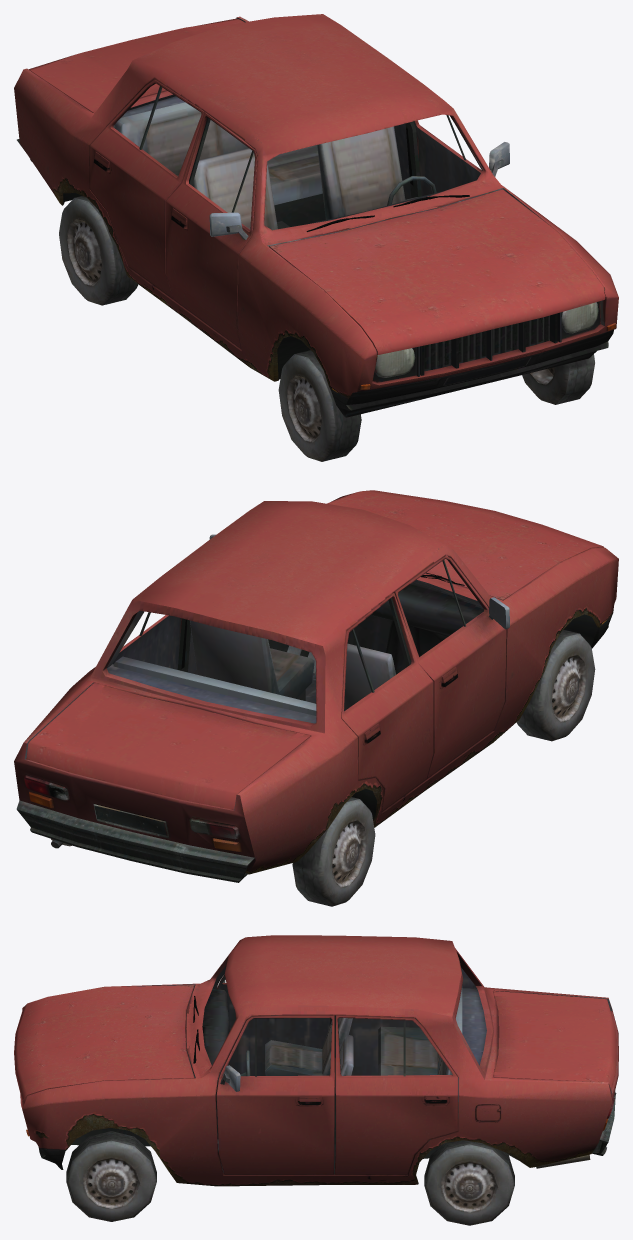
Rendered from Vostok Relia.fbx.
The picture shows the model from 3 angles, top to bottom: view 1: azimuth 30°, elevation 25°; view 2: azimuth 150°, elevation 25°; view 3: azimuth 270°, elevation 25°; orthographic projection. The views are drawn at different scales.
Visible parts, largest first — view 1: Vostok_Relia, Hood, DoorFR, DoorRR, WheelFR, WheelRR, Trunk, DoorFL, WheelFL, DoorRL; view 2: Vostok_Relia, Trunk, Hood, DoorFR, DoorRR, WheelRR, WheelFR, DoorRL; view 3: Vostok_Relia, Hood, DoorFL, DoorRL, Trunk, WheelFL, WheelRL, DoorFR, DoorRR.
Part boxes in pixels (x1,y1,x2,y2): Vostok_Relia: (14, 14, 618, 417); Hood: (269, 189, 605, 354); DoorFR: (165, 112, 257, 348); DoorRR: (89, 79, 205, 299); WheelFR: (278, 350, 361, 461); WheelRR: (59, 196, 138, 305); Trunk: (28, 18, 243, 113); DoorFL: (413, 115, 509, 196); WheelFL: (522, 354, 594, 404); DoorRL: (394, 123, 432, 199); Vostok_Relia: (14, 492, 618, 882); Trunk: (26, 682, 310, 809); Hood: (328, 490, 603, 600); DoorFR: (394, 556, 509, 778); DoorRR: (341, 593, 433, 811); WheelRR: (292, 797, 375, 906); WheelFR: (516, 629, 595, 741); DoorRL: (90, 612, 180, 670); Vostok_Relia: (20, 935, 618, 1186); Hood: (14, 985, 194, 1100); DoorFL: (216, 1015, 334, 1174); DoorRL: (334, 1015, 458, 1174); Trunk: (493, 991, 616, 1090); WheelFL: (66, 1131, 156, 1221); WheelRL: (424, 1140, 514, 1225); DoorFR: (217, 974, 329, 1075); DoorRR: (349, 1018, 420, 1075).
Bounding box in the file's own units: 180 × 148 × 386.
